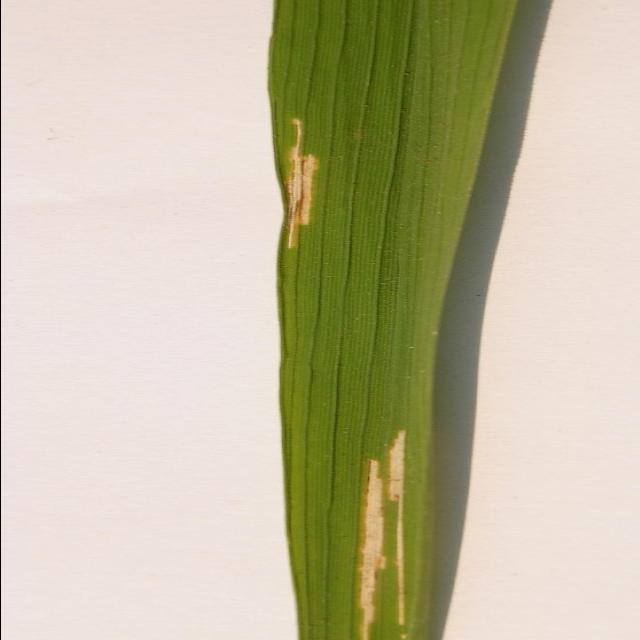Bacterial_Leaf_Blight: (268, 412, 490, 640), (225, 102, 346, 264)
